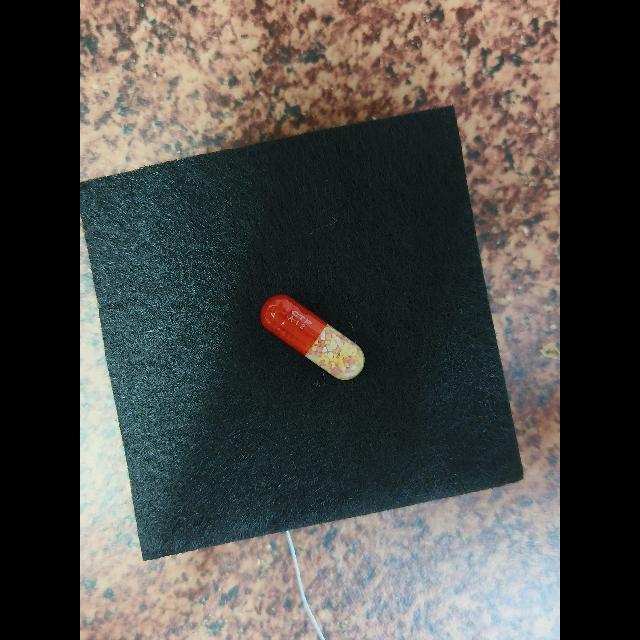Intact Capsule: (260, 294, 365, 380)
